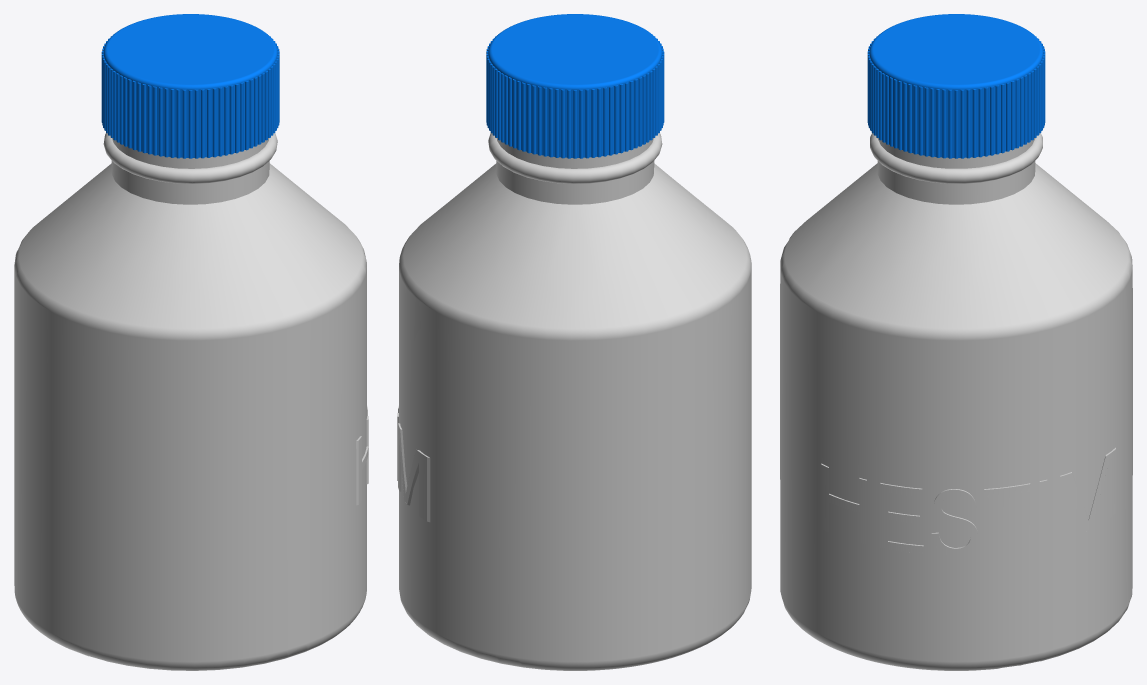
File: Unnamed1-assemblage-grand-flacon.gltf
3 renders of one model, left to right at view 1: azimuth 30°, elevation 25°; view 2: azimuth 150°, elevation 25°; view 3: azimuth 270°, elevation 25°, orthographic.
Visible parts, largest first — view 1: SOLID, bouchon; view 2: SOLID, bouchon, COMPOUND005, COMPOUND011; view 3: SOLID, bouchon, COMPOUND005, COMPOUND001, COMPOUND002, COMPOUND, COMPOUND003, COMPOUND004.
Boxes of the visible parts, x1,y1,x2,y2 form: SOLID: (14, 133, 366, 670); bouchon: (101, 14, 279, 158); SOLID: (399, 133, 751, 670); bouchon: (486, 14, 664, 158); COMPOUND005: (398, 423, 426, 521); COMPOUND011: (398, 423, 430, 522); SOLID: (780, 133, 1132, 670); bouchon: (867, 14, 1045, 158); COMPOUND005: (1060, 449, 1115, 540); COMPOUND001: (880, 483, 923, 553); COMPOUND002: (931, 489, 977, 556); COMPOUND: (821, 465, 866, 544); COMPOUND003: (984, 484, 1030, 552); COMPOUND004: (1039, 480, 1047, 546).
Size of the model in its own units: 0.0448 by 0.077 by 0.0446.
